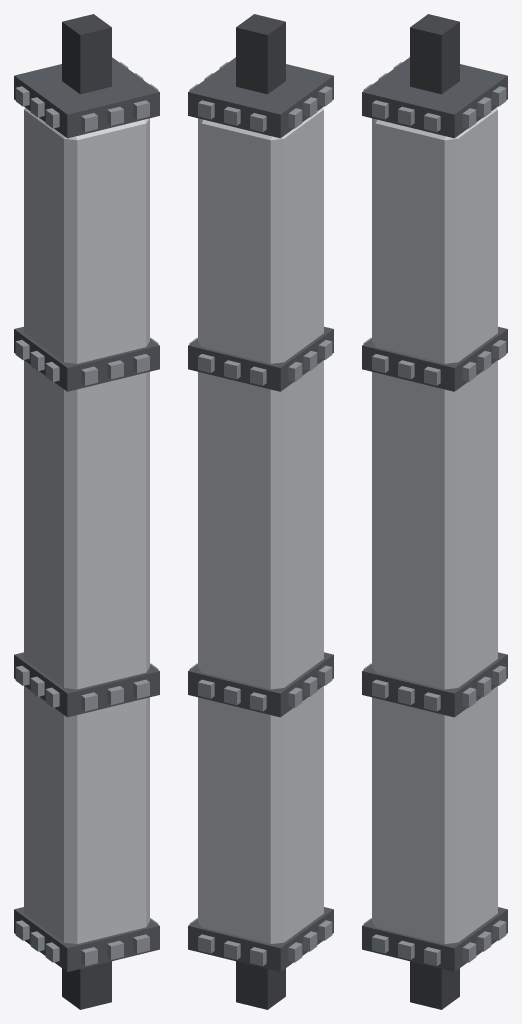
File: SM_Obstacle_02_B_Pillar_Top_Lid.fbx
The picture shows the model from 3 angles, left to right: view 1: azimuth 30°, elevation 25°; view 2: azimuth 150°, elevation 25°; view 3: azimuth 330°, elevation 25°; orthographic projection.
Visible parts, largest first — view 1: pCube794; view 2: pCube794; view 3: pCube794.
Part boxes in pixels (x1=…): pCube794: x1=14, y1=14, x2=159, y2=1009; pCube794: x1=188, y1=14, x2=333, y2=1009; pCube794: x1=362, y1=14, x2=507, y2=1009.
Size of the model in its own units: 33.91 by 299 by 33.91.
1 material, 1 textured.
